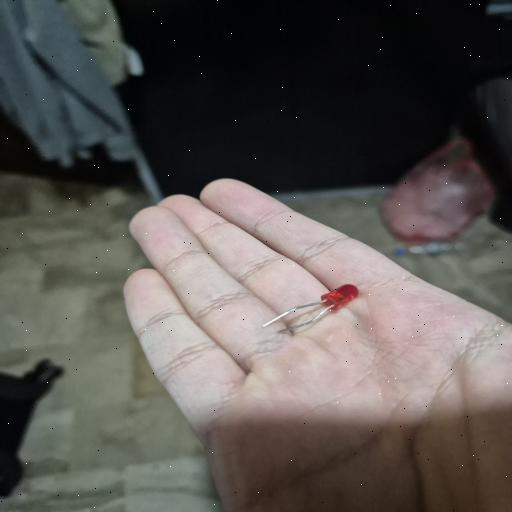led-diode: (263, 284, 358, 332)
